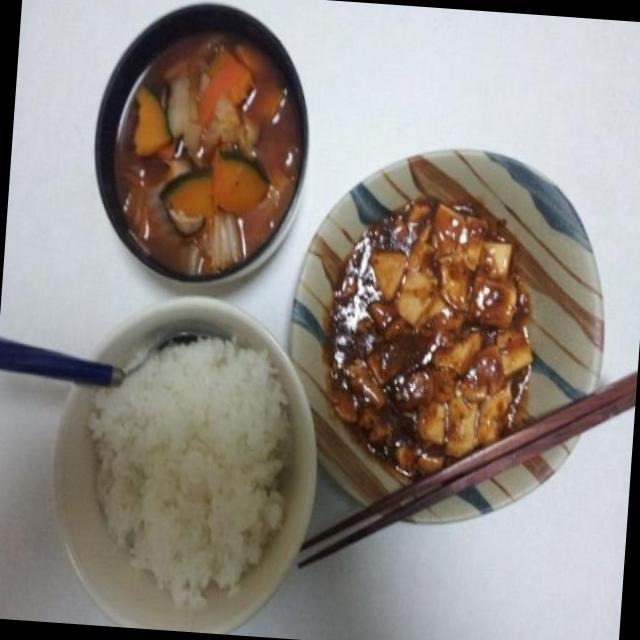Rice: (77, 329, 306, 602)
